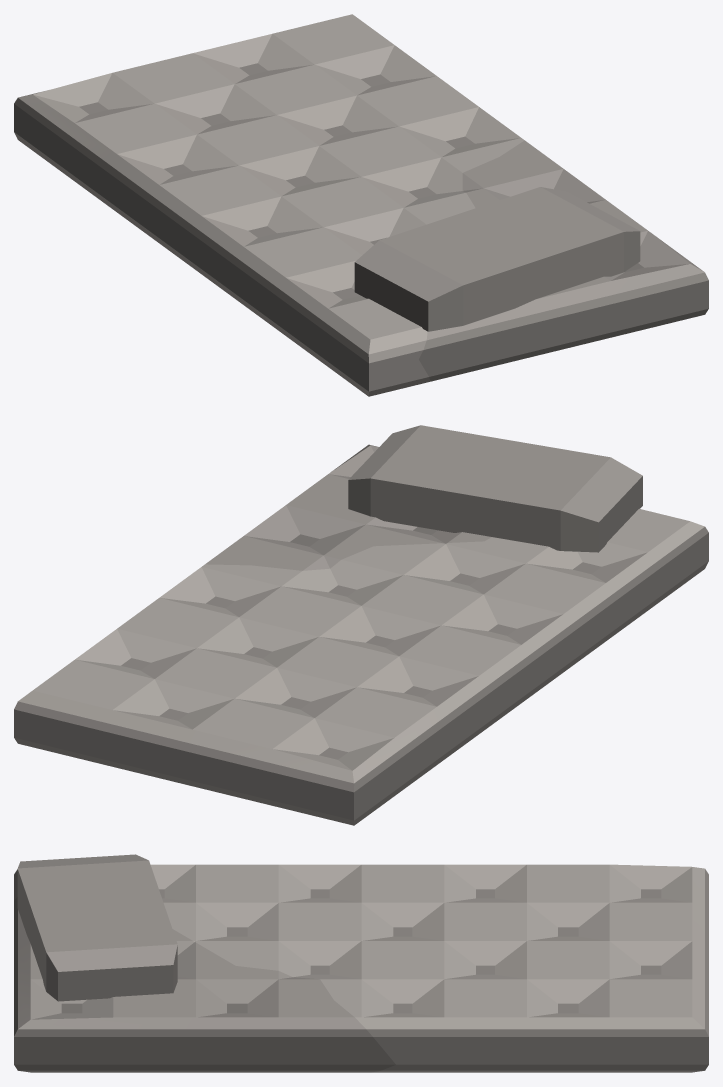
The model's file is AI_Prop_Makeshift_Bed_Single.fbx.
The picture shows the model from 3 angles, top to bottom: view 1: azimuth 30°, elevation 25°; view 2: azimuth 150°, elevation 25°; view 3: azimuth 270°, elevation 25°; orthographic projection. The views are drawn at different scales.
Visible parts, largest first — view 1: AI_Prop_Makeshift_Bed_Single; view 2: AI_Prop_Makeshift_Bed_Single; view 3: AI_Prop_Makeshift_Bed_Single.
Boxes of the visible parts, x1,y1,x2,y2 form: AI_Prop_Makeshift_Bed_Single: [14, 14, 708, 396]; AI_Prop_Makeshift_Bed_Single: [14, 425, 708, 825]; AI_Prop_Makeshift_Bed_Single: [14, 854, 708, 1072].
Bounding box in the file's own units: 2.05 × 0.543 × 3.71.
